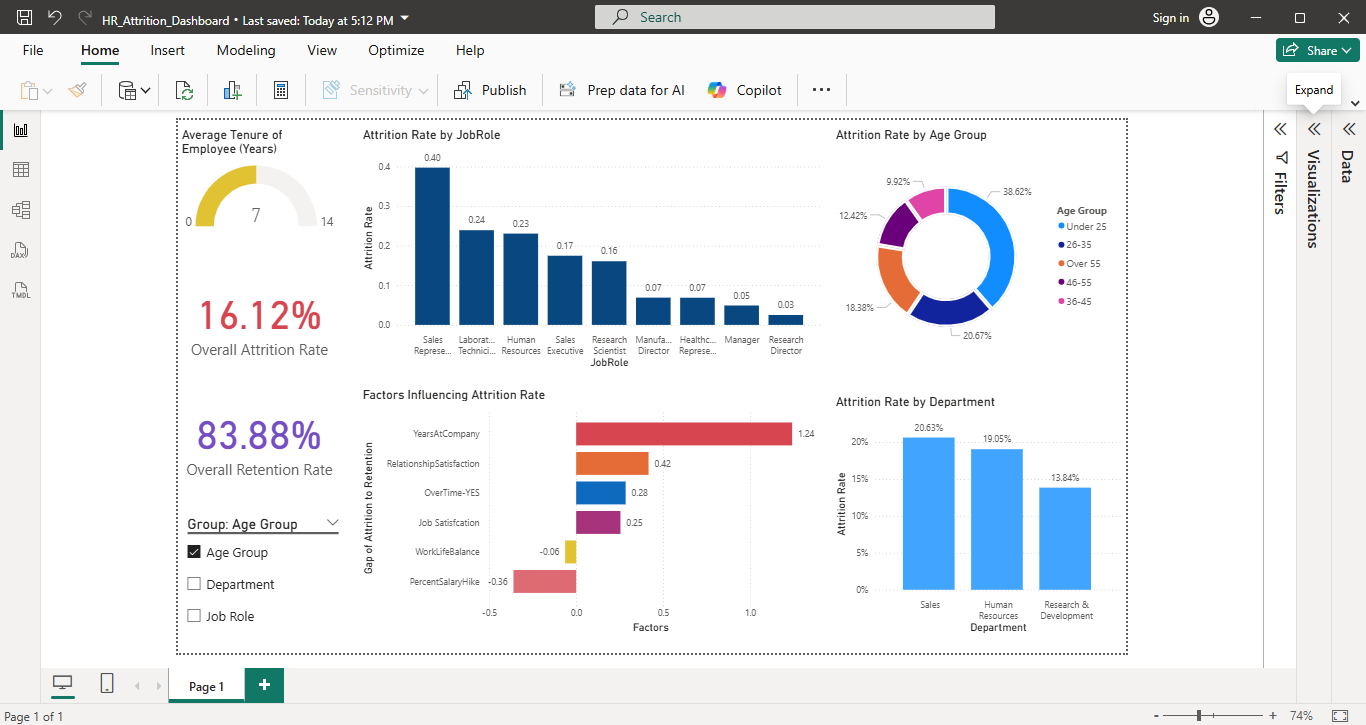

The dashboard page shown, as its layout file describes it:
{"tool":"powerbi","page":{"name":"Page 1","canvas":[1280,720],"ordinal":0},"visuals":[{"type":"hundredPercentStackedBarChart","fields":{"Category":["Main Data.Department"],"Y":["Main Data.Attrition Rate"],"Series":["Main Data.Attrition"]},"box":[0,208.3,609.8,248.6],"z":0},{"type":"donutChart","fields":{"Category":["Main Data.Age Group"],"Y":["Main Data.Attrition Rate"]},"box":[799.6,11.8,480.4,334.3],"z":1000},{"type":"clusteredColumnChart","fields":{"Y":["Main Data.Attrition Rate"],"Category":["Main Data.JobRole"]},"box":[640,346,609.8,374.6],"z":2000},{"type":"card","fields":{"Values":["Main Data.Retention Rate"]},"box":[260.4,0,275.5,208.3],"z":3000},{"type":"card","fields":{"Values":["Main Data.Attrition Rate"]},"box":[0,0,260.4,208.3],"z":4000},{"type":"gauge","fields":{"Y":["Main Data.Average Tenure of the Employees"]},"box":[519.1,11.8,263.7,208.3],"z":5000},{"type":"clusteredBarChart","fields":{"Category":["Root Cause Analysis.Factor"],"Y":["Avg(Root Cause Analysis.Gap)"]},"box":[0,456.9,609.8,263.7],"z":6000},{"type":"slicer","fields":{"Values":["Root Cause Analysis.Group"]},"box":[426.7,547.6,156.2,127.7],"z":7000}]}

Visuals, with their boxes on the page's 1280x720 design canvas (x1, y1, x2, y2). These are canvas units, not pixel positions in the 1366x725 screenshot, which may show the page scaled, cropped or inside an application window:
hundredPercentStackedBarChart - Main Data.Department x Main Data.Attrition Rate: detection(0, 208, 610, 457)
donutChart - Main Data.Age Group x Main Data.Attrition Rate: detection(800, 12, 1280, 346)
clusteredColumnChart - Main Data.Attrition Rate x Main Data.JobRole: detection(640, 346, 1250, 721)
card - Main Data.Retention Rate: detection(260, 0, 536, 208)
card - Main Data.Attrition Rate: detection(0, 0, 260, 208)
gauge - Main Data.Average Tenure of the Employees: detection(519, 12, 783, 220)
clusteredBarChart - Root Cause Analysis.Factor x Avg(Root Cause Analysis.Gap): detection(0, 457, 610, 721)
slicer - Root Cause Analysis.Group: detection(427, 548, 583, 675)
